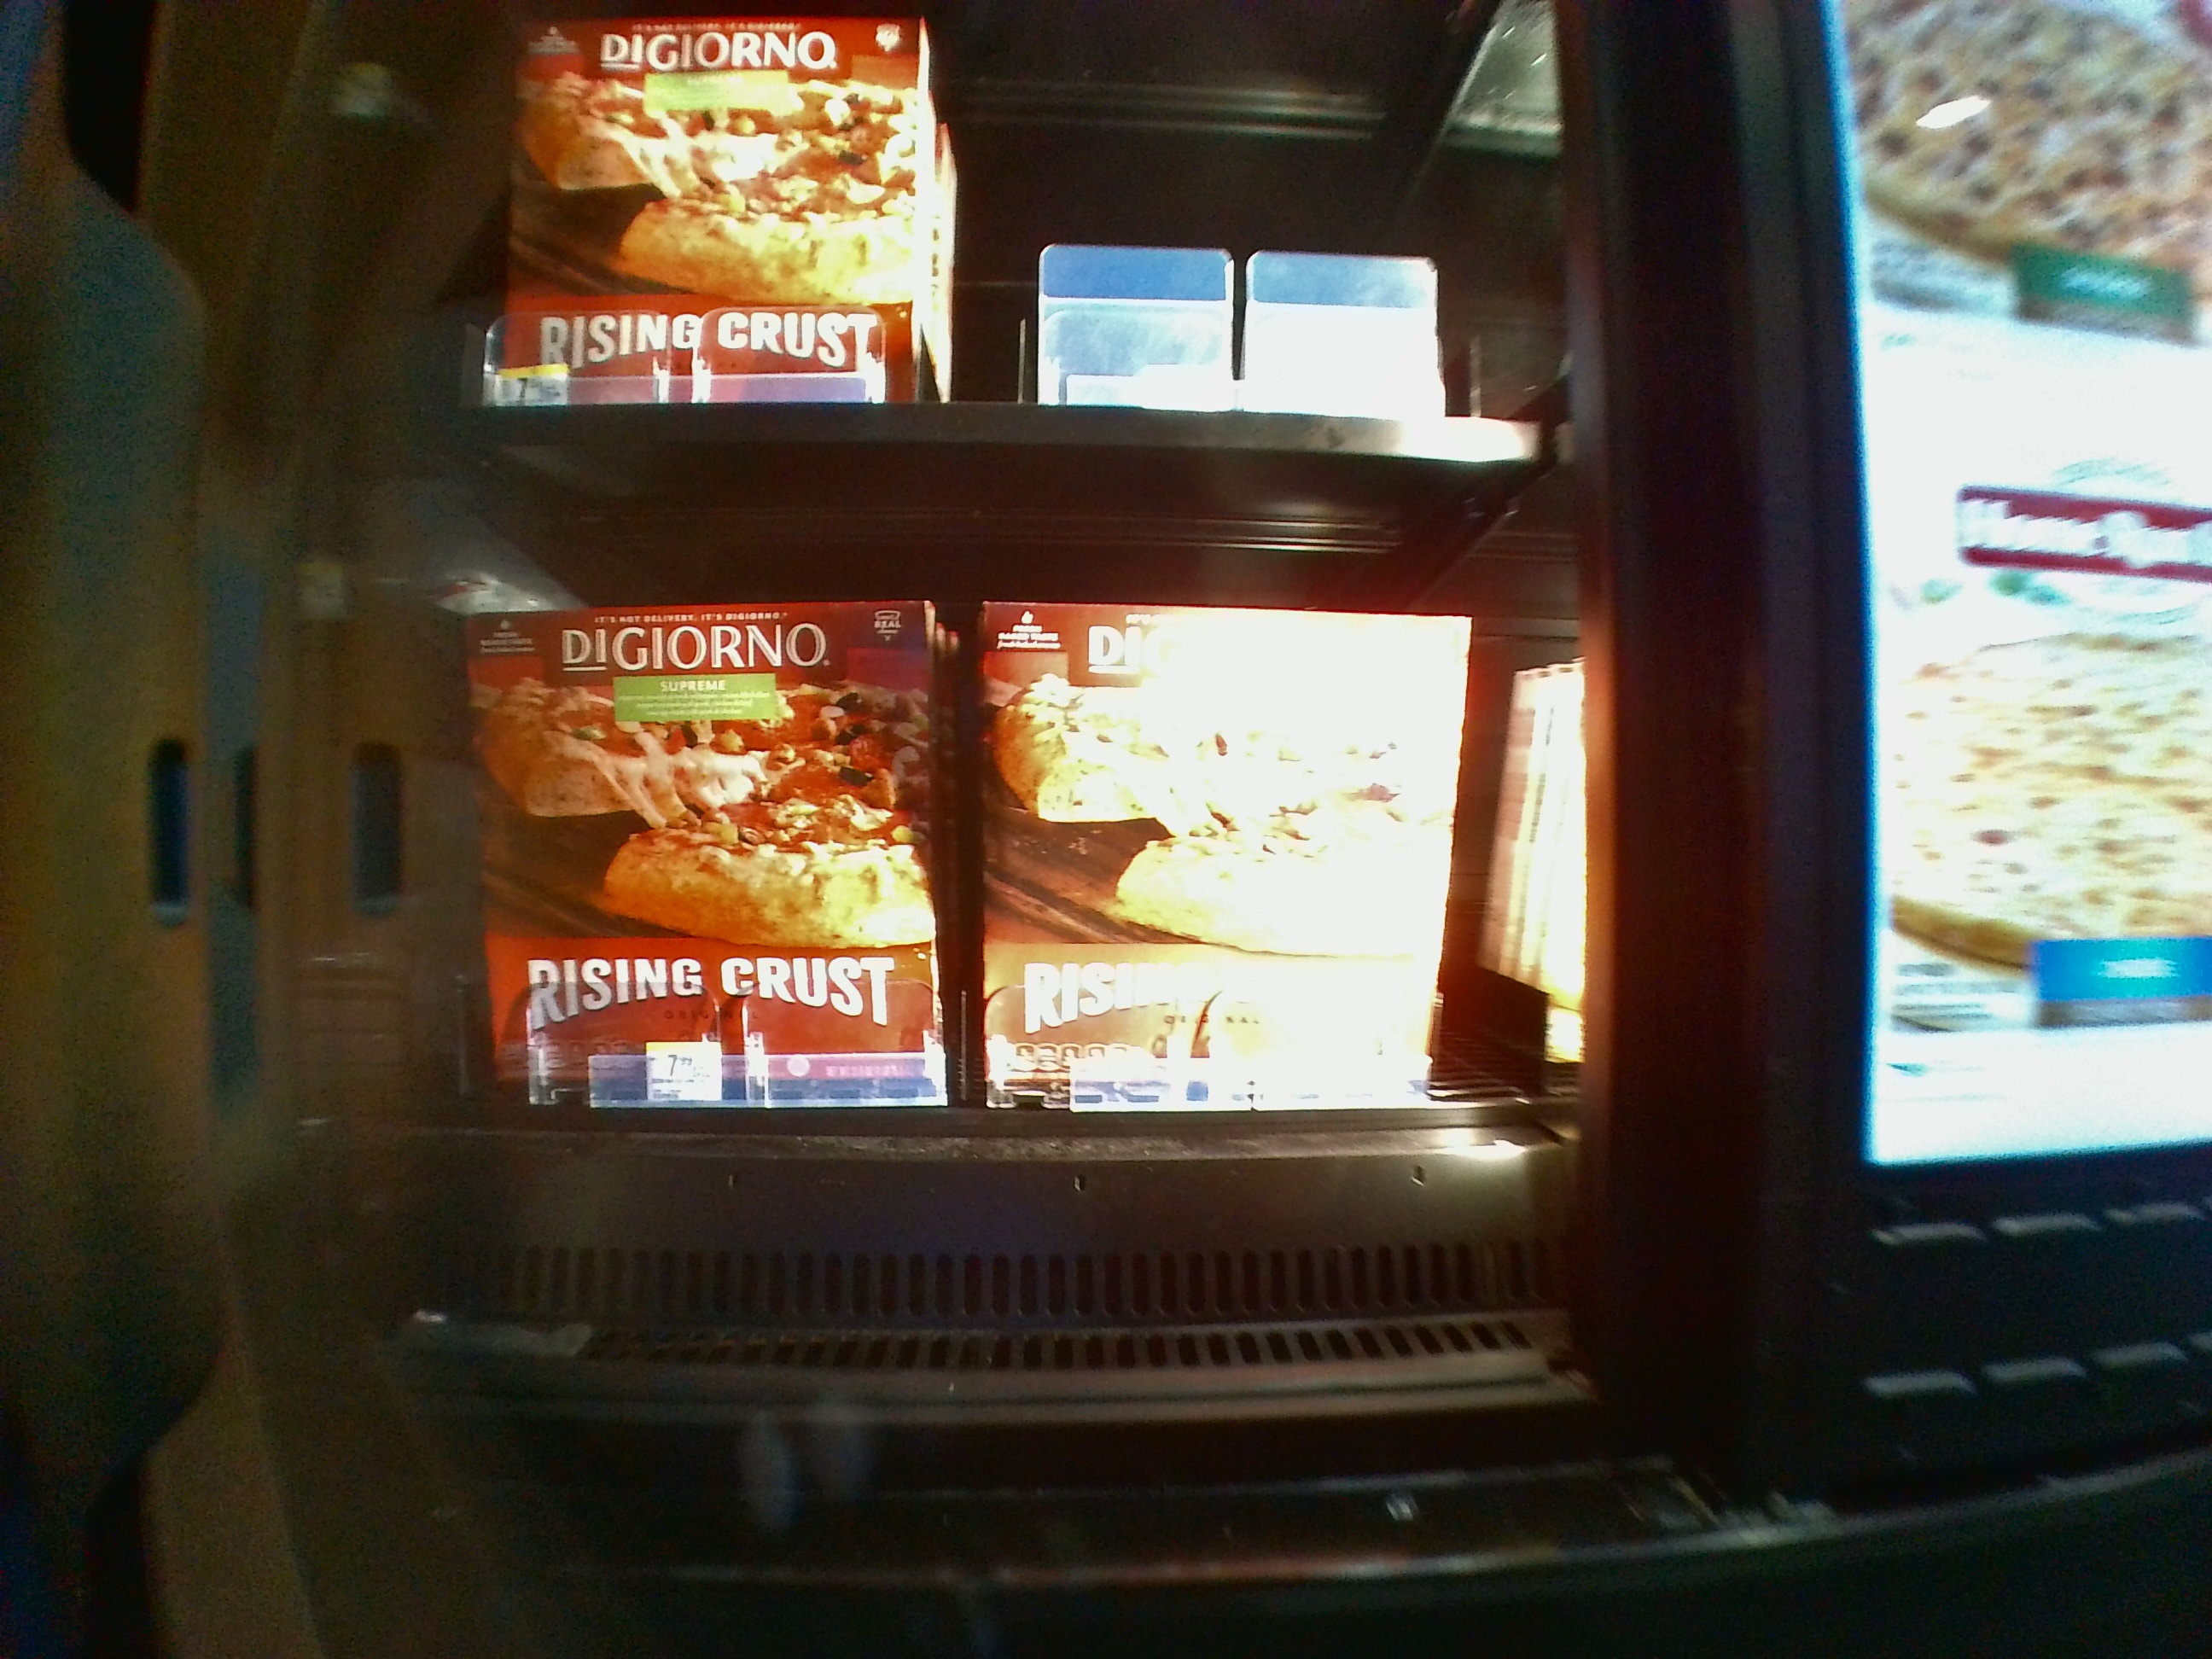shelf: (411, 486, 1578, 1253), (394, 0, 1543, 472)
